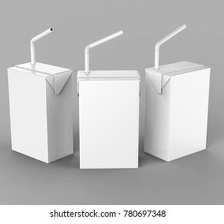carton: (4, 60, 75, 166), (141, 59, 212, 162), (76, 67, 142, 170)
drinking_straw: (82, 28, 124, 73), (151, 22, 187, 71), (25, 24, 56, 68)
